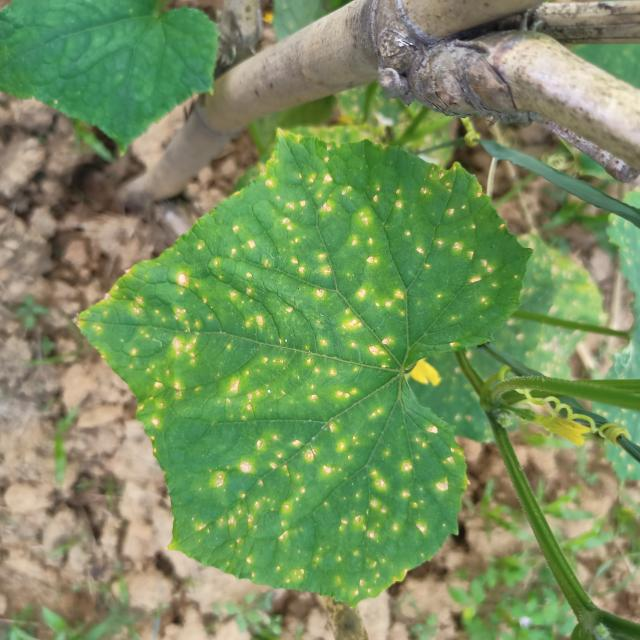disease_cucumber: (120, 132, 490, 602)
